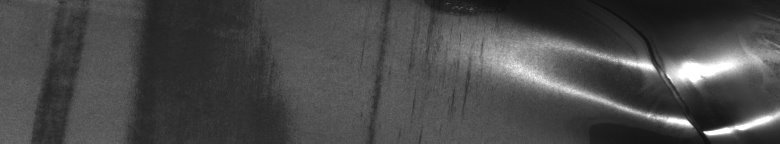ke: (542, 36, 776, 136)
